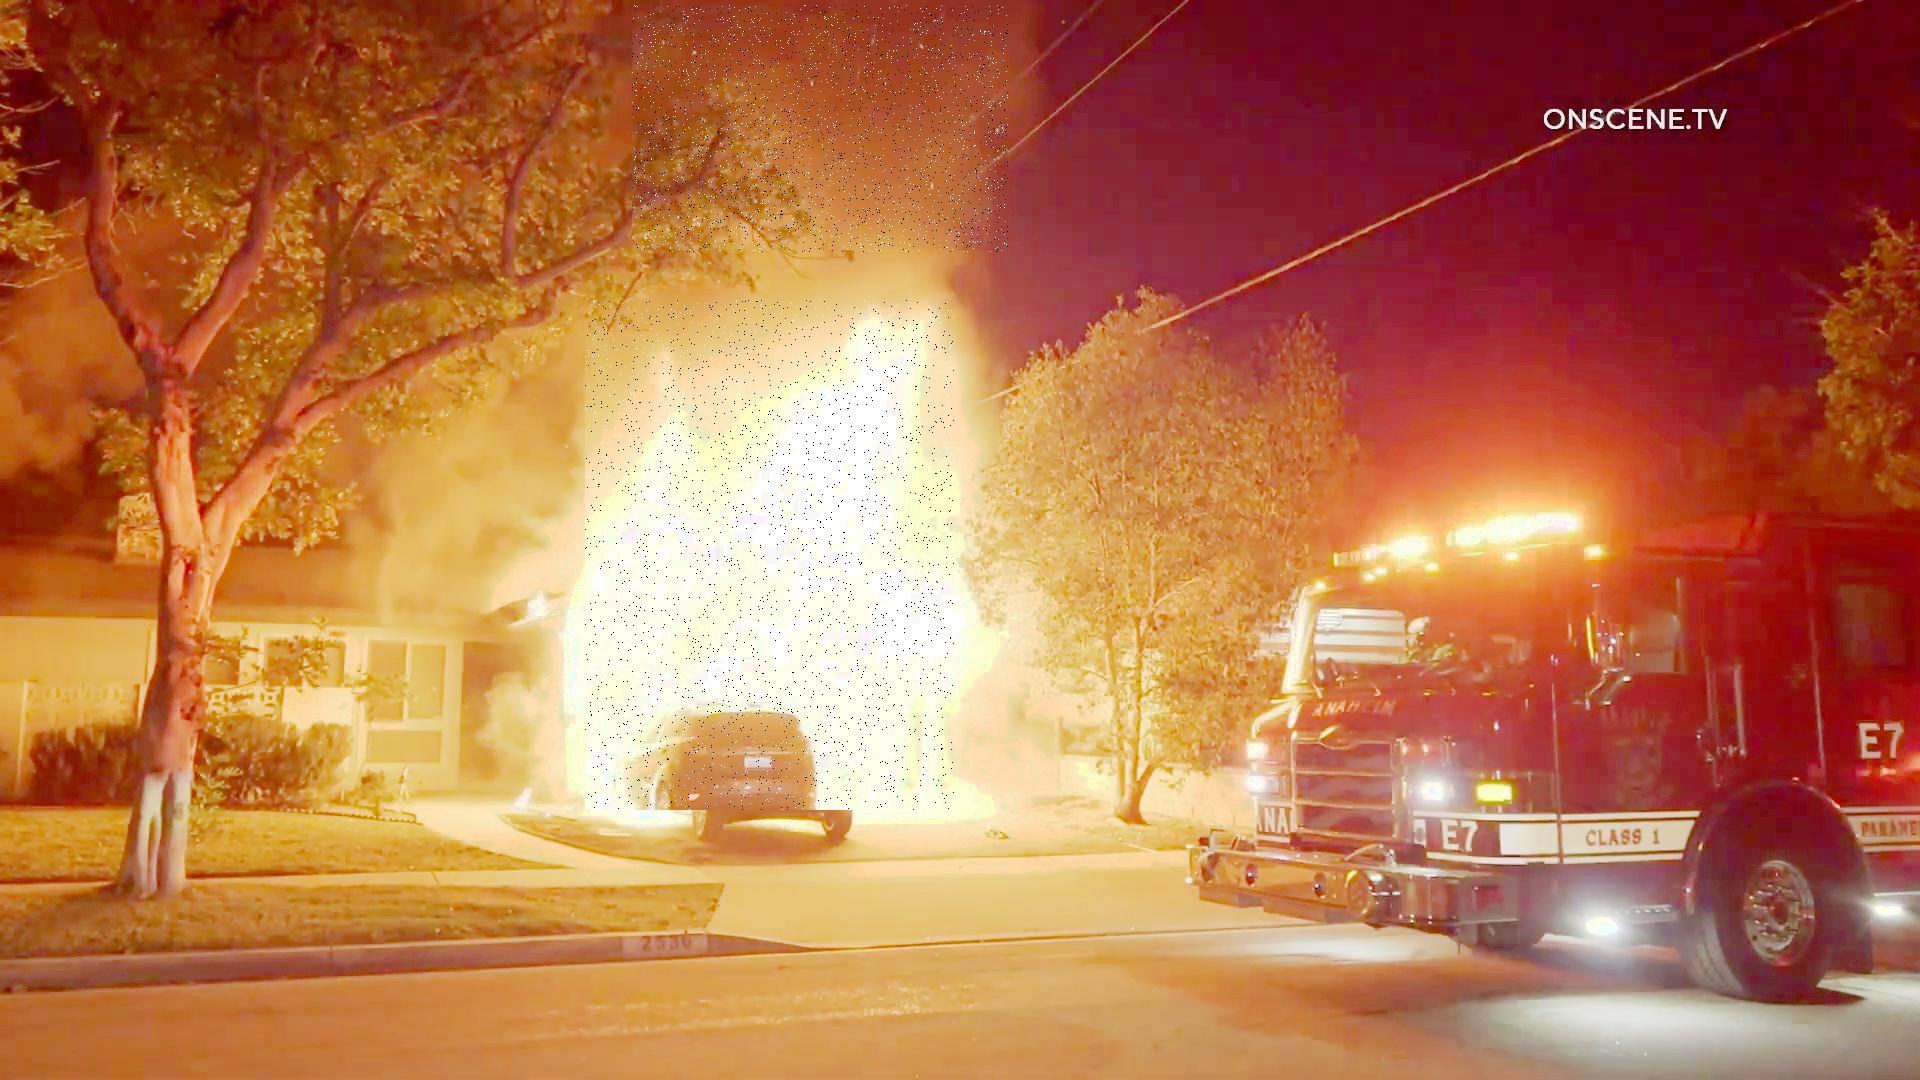fire: (585, 301, 955, 811)
smoke: (633, 5, 1009, 253)
